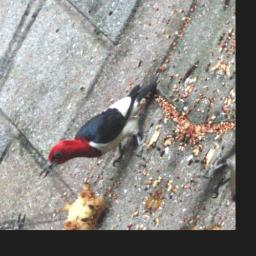Woodpecker: (30, 52, 184, 208)
